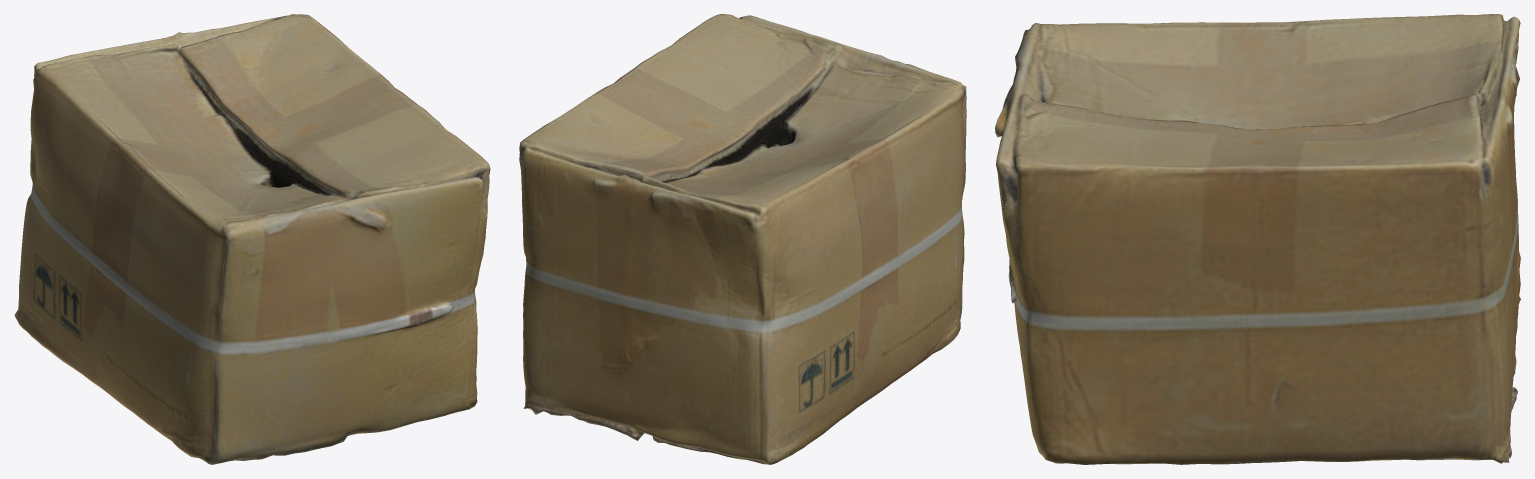
File: detail.fbx
The picture shows the model from 3 angles, left to right: view 1: azimuth 30°, elevation 25°; view 2: azimuth 150°, elevation 25°; view 3: azimuth 270°, elevation 25°; orthographic projection. The views are drawn at different scales.
Visible parts, largest first — view 1: cardboard_box_01; view 2: cardboard_box_01; view 3: cardboard_box_01.
Part boxes in pixels (x1,y1,x2,y2): cardboard_box_01: (14,14,490,464); cardboard_box_01: (519,14,966,464); cardboard_box_01: (995,14,1520,464).
Bounding box in the file's own units: 38.7 × 34.18 × 51.59.
